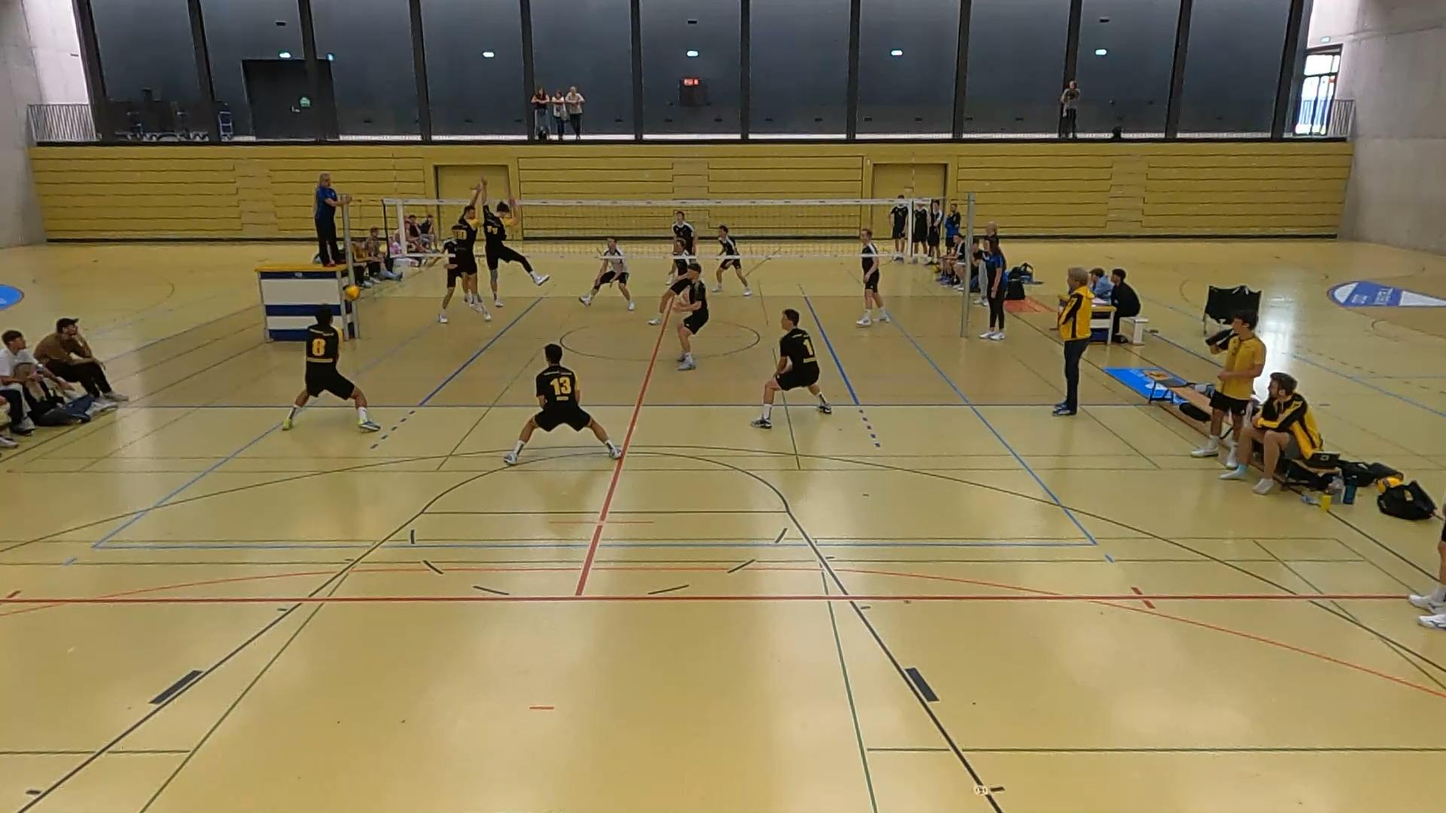Dig: (272, 305, 386, 440)
Player: (504, 343, 622, 464), (751, 309, 831, 428), (480, 177, 549, 306), (438, 223, 491, 323), (579, 237, 635, 311), (673, 261, 708, 370), (856, 230, 889, 326), (713, 225, 751, 296), (453, 181, 482, 268), (670, 237, 694, 283), (673, 210, 695, 254)
ball: (341, 280, 360, 303)
